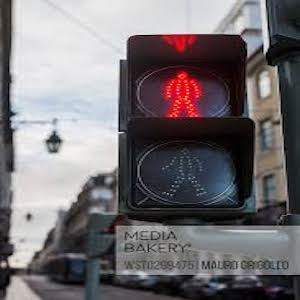red: (164, 69, 204, 117)
